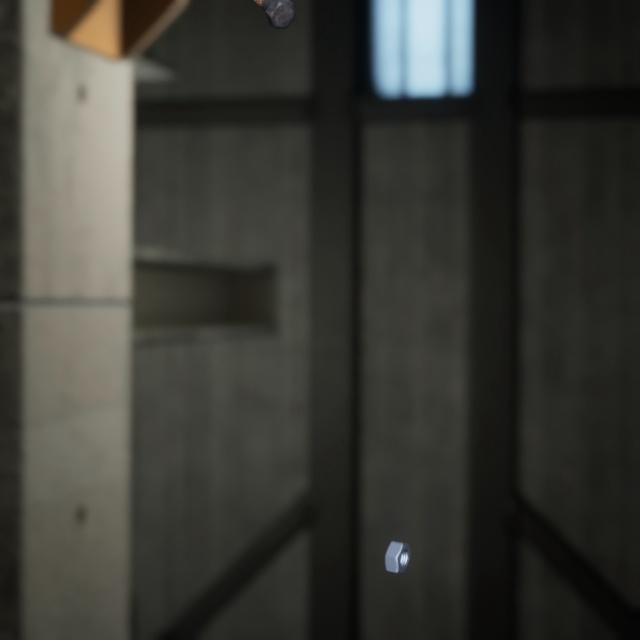bolt: (257, 0, 301, 25)
nut: (380, 514, 415, 556)
